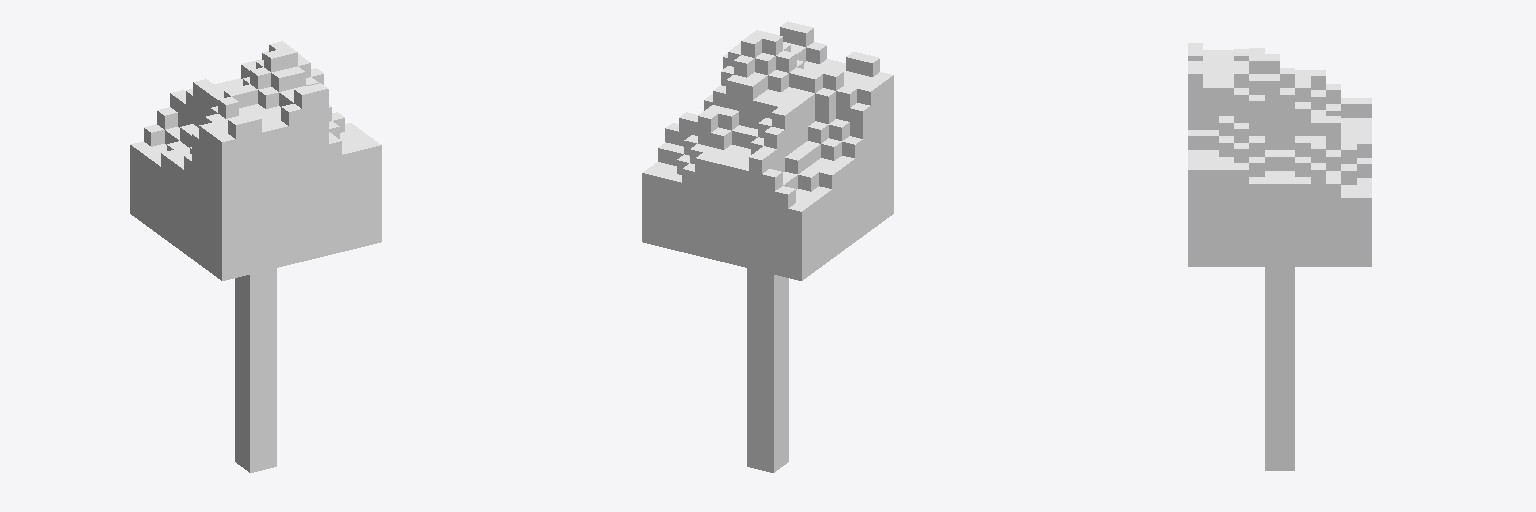
The model's file is Tree_Dead.obj.
3 renders of one model, left to right at view 1: azimuth 30°, elevation 25°; view 2: azimuth 150°, elevation 25°; view 3: azimuth 270°, elevation 25°, orthographic.
Visible parts, largest first — view 1: object 1; view 2: object 1; view 3: object 1.
Boxes of the visible parts, <box> form: object 1: <box>130,41,381,472</box>; object 1: <box>642,21,893,472</box>; object 1: <box>1188,43,1371,470</box>.
Size of the model in its own units: 1.2 by 3 by 1.2.